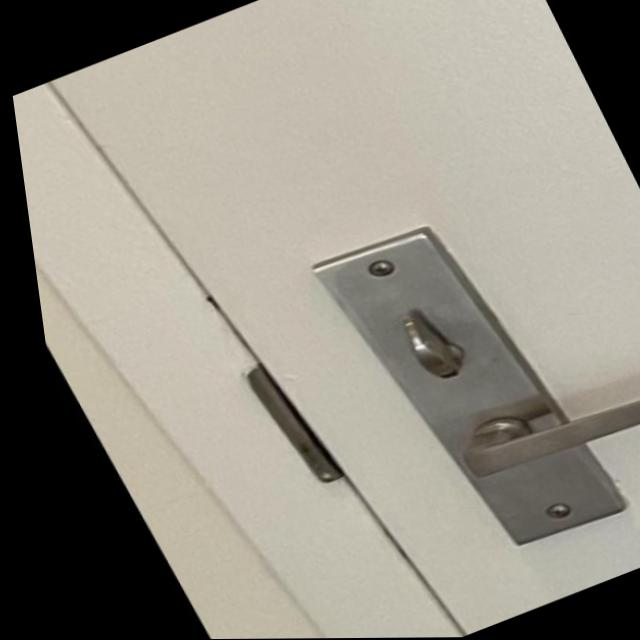door_handle: (355, 319, 640, 531)
